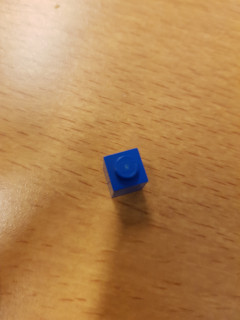1x1 blue: (102, 147, 150, 201)
